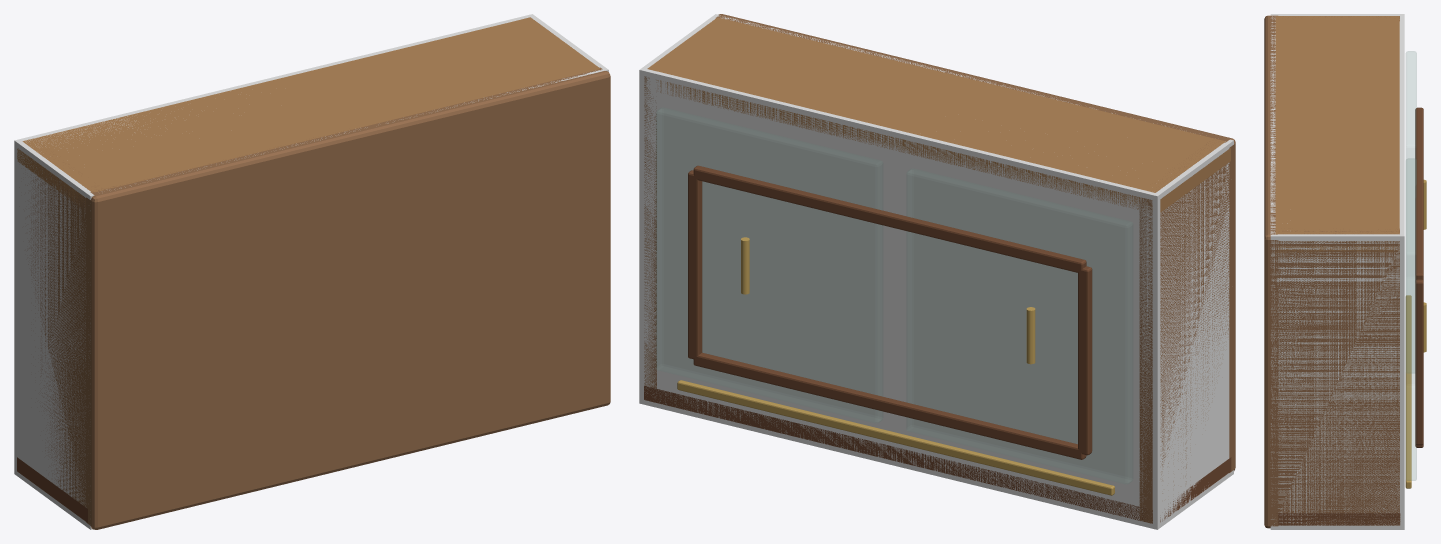
The model's file is luxury.glb.
3 renders of one model, left to right at view 1: azimuth 30°, elevation 25°; view 2: azimuth 150°, elevation 25°; view 3: azimuth 270°, elevation 25°, orthographic. The views are drawn at different scales.
Parts seen in each view (by area): view 1: Cabinet_Back.003, Cabinet_Top.003, COL_WALL_CABINETS_LUXURY, Cabinet_Side.006, Cabinet_Bottom.003; view 2: COL_WALL_CABINETS_LUXURY, Cabinet_Door_-1.003, Cabinet_Door_1.003, Cabinet_Top.003, Cabinet_Side.006, Cabinet_Bottom.003, Cabinet_TrimTop.001, Cabinet_TrimBottom.001, Cabinet_BrassToeKick, Cabinet_Back.003, Cabinet_TrimLeft.001, Cabinet_TrimRight.001 (+1 smaller); view 3: Cabinet_Side.007, COL_WALL_CABINETS_LUXURY, Cabinet_Top.003, Cabinet_Back.003, Cabinet_Door_1.003, Cabinet_Door_-1.003, Cabinet_Bottom.003, Cabinet_TrimTop.001, Cabinet_TrimRight.001, Cabinet_BrassToeKick.
Part boxes in pixels (<box>): Cabinet_Back.003: <box>86,67,610,529</box>; Cabinet_Top.003: <box>17,17,600,209</box>; COL_WALL_CABINETS_LUXURY: <box>14,14,608,529</box>; Cabinet_Side.006: <box>17,140,102,506</box>; Cabinet_Bottom.003: <box>17,457,87,522</box>; COL_WALL_CABINETS_LUXURY: <box>639,14,1233,529</box>; Cabinet_Door_-1.003: <box>906,169,1132,484</box>; Cabinet_Door_1.003: <box>656,108,882,423</box>; Cabinet_Top.003: <box>647,17,1230,212</box>; Cabinet_Side.006: <box>1139,139,1229,523</box>; Cabinet_Bottom.003: <box>644,385,1231,523</box>; Cabinet_TrimTop.001: <box>693,165,1086,272</box>; Cabinet_TrimBottom.001: <box>693,352,1086,459</box>; Cabinet_BrassToeKick: <box>677,380,1114,495</box>; Cabinet_Back.003: <box>715,14,1235,472</box>; Cabinet_TrimLeft.001: <box>1078,266,1092,455</box>; Cabinet_TrimRight.001: <box>688,170,702,359</box>; Cabinet_Side.007: <box>1275,229,1399,525</box>; COL_WALL_CABINETS_LUXURY: <box>1270,14,1404,529</box>; Cabinet_Top.003: <box>1275,16,1399,252</box>; Cabinet_Back.003: <box>1264,15,1278,528</box>; Cabinet_Door_1.003: <box>1406,158,1416,480</box>; Cabinet_Door_-1.003: <box>1406,51,1416,372</box>; Cabinet_Bottom.003: <box>1276,513,1400,525</box>; Cabinet_TrimTop.001: <box>1415,107,1423,280</box>; Cabinet_TrimRight.001: <box>1415,279,1423,445</box>; Cabinet_BrassToeKick: <box>1405,295,1411,488</box>.
Size of the model in its own units: 1.6 by 0.9844 by 0.4943.
